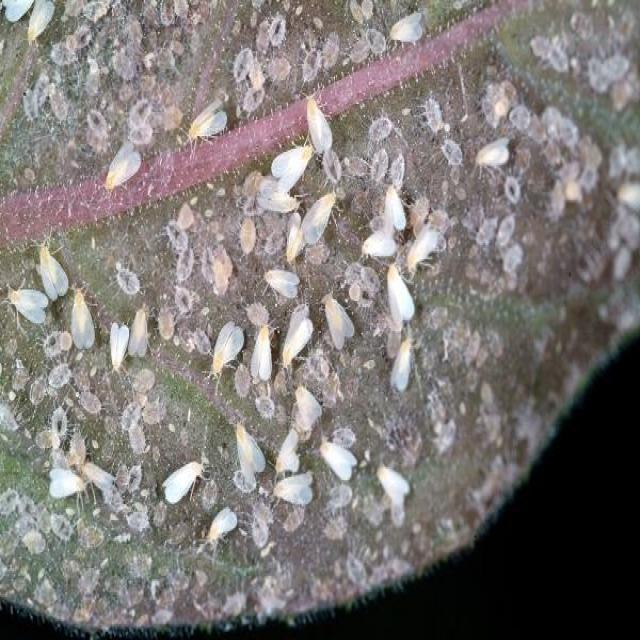Whitefly: (269, 391, 416, 541), (254, 85, 356, 265), (154, 411, 266, 569), (246, 263, 368, 386), (31, 381, 130, 526), (360, 170, 449, 330), (5, 230, 100, 366), (108, 293, 210, 402), (99, 130, 153, 208), (471, 119, 524, 189), (378, 325, 427, 393), (207, 313, 248, 386), (185, 96, 237, 153), (388, 11, 436, 58)
